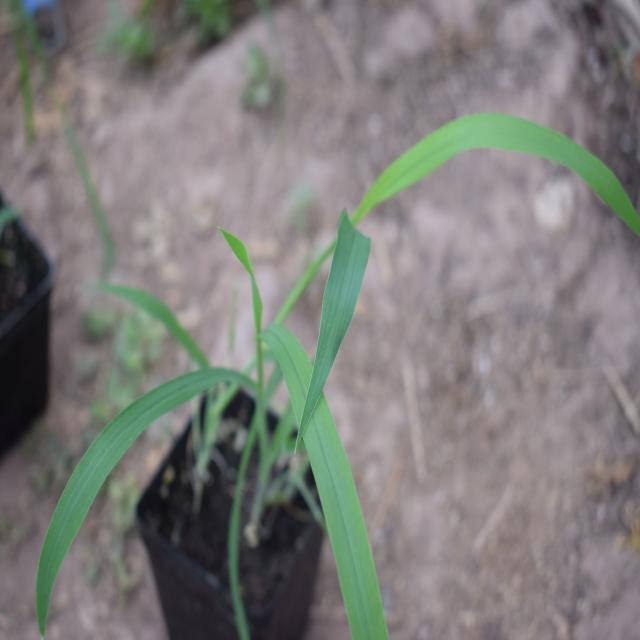crabgrass: (22, 173, 442, 613)
